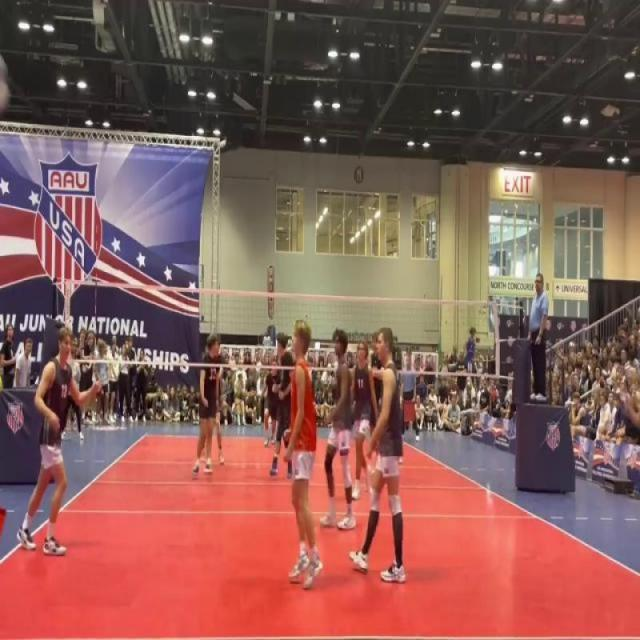volleyball: (0, 53, 12, 114)
